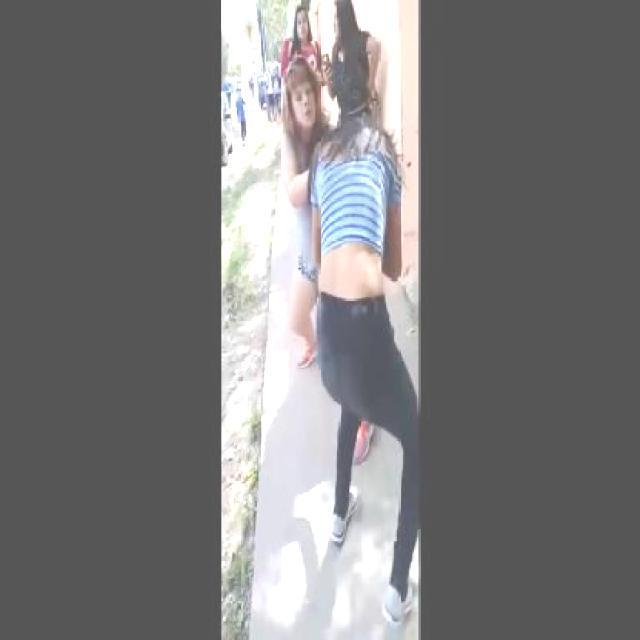fight: (278, 57, 402, 540)
